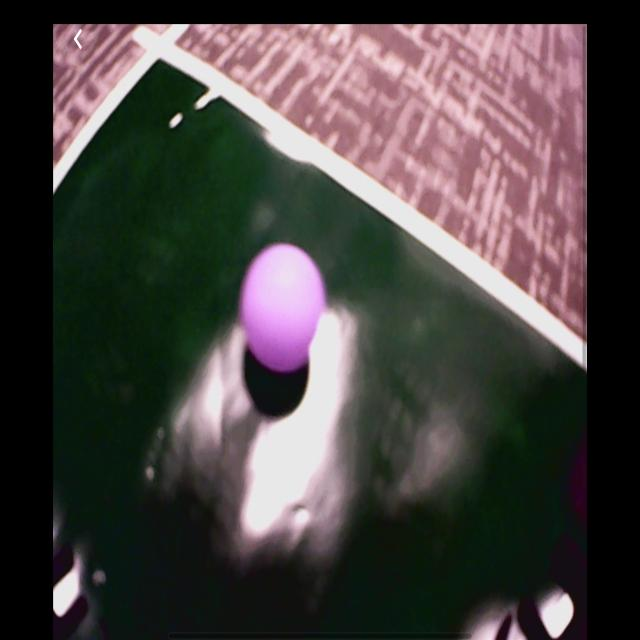ball: (241, 246, 323, 380)
